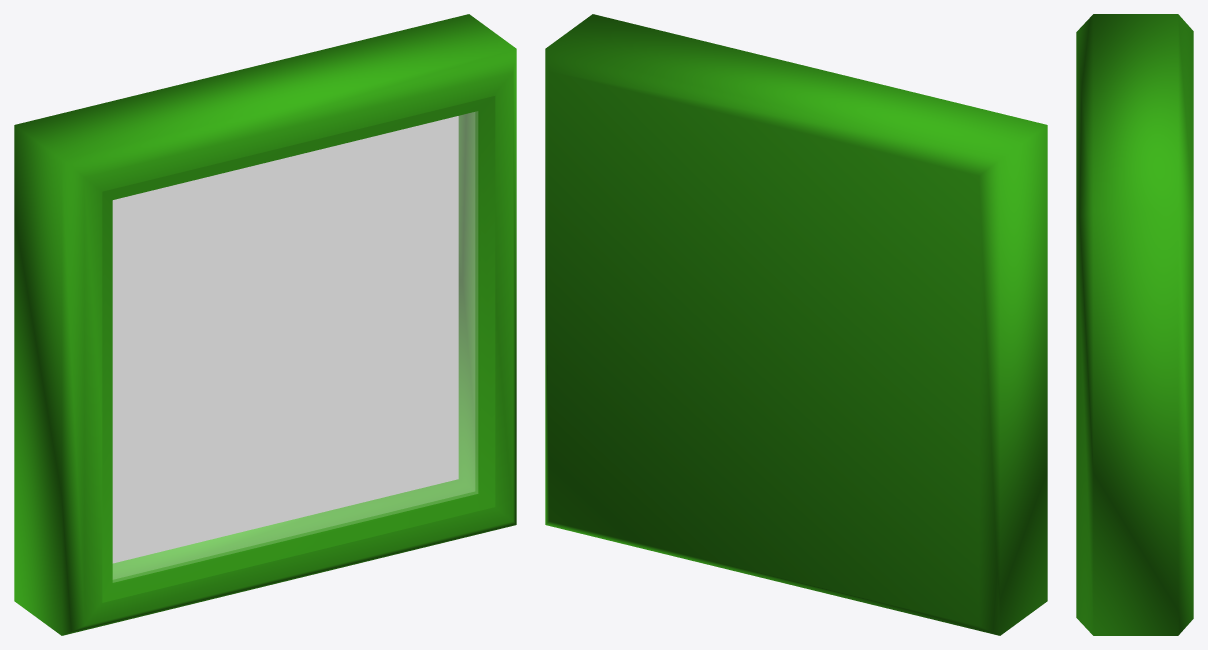
Rendered from Frame_test_green.fbx.
3 views of the same model, side by side, from view 1: azimuth 30°, elevation 25°; view 2: azimuth 150°, elevation 25°; view 3: azimuth 270°, elevation 25° (orthographic). The views are drawn at different scales.
Visible parts, largest first — view 1: Frame_glass, Frame, Frame.001; view 2: Frame; view 3: Frame.
Boxes of the visible parts, left/top/right/bottom form: Frame_glass: left=113, top=112, right=477, bottom=581; Frame: left=14, top=14, right=516, bottom=635; Frame.001: left=112, top=116, right=458, bottom=563; Frame: left=545, top=14, right=1047, bottom=635; Frame: left=1076, top=14, right=1193, bottom=635.
Size of the model in its own units: 40 by 40 by 10.
